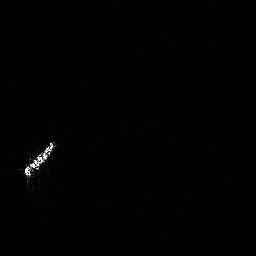ship: (21, 137, 58, 180)
